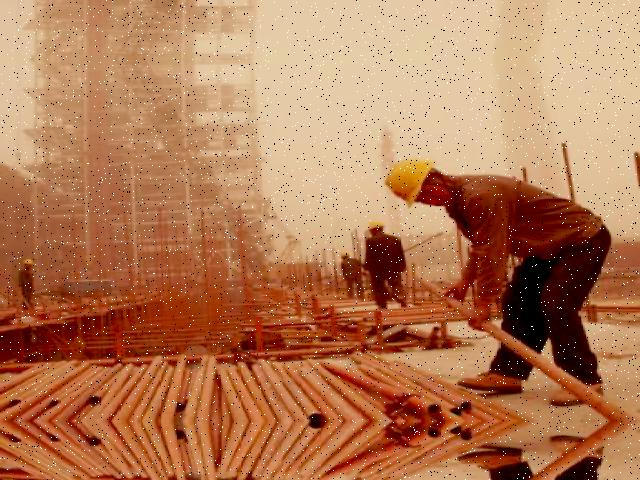Helmet: (376, 148, 441, 210)
